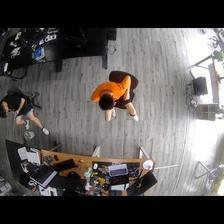normal: (89, 76, 143, 126), (1, 87, 50, 139)
